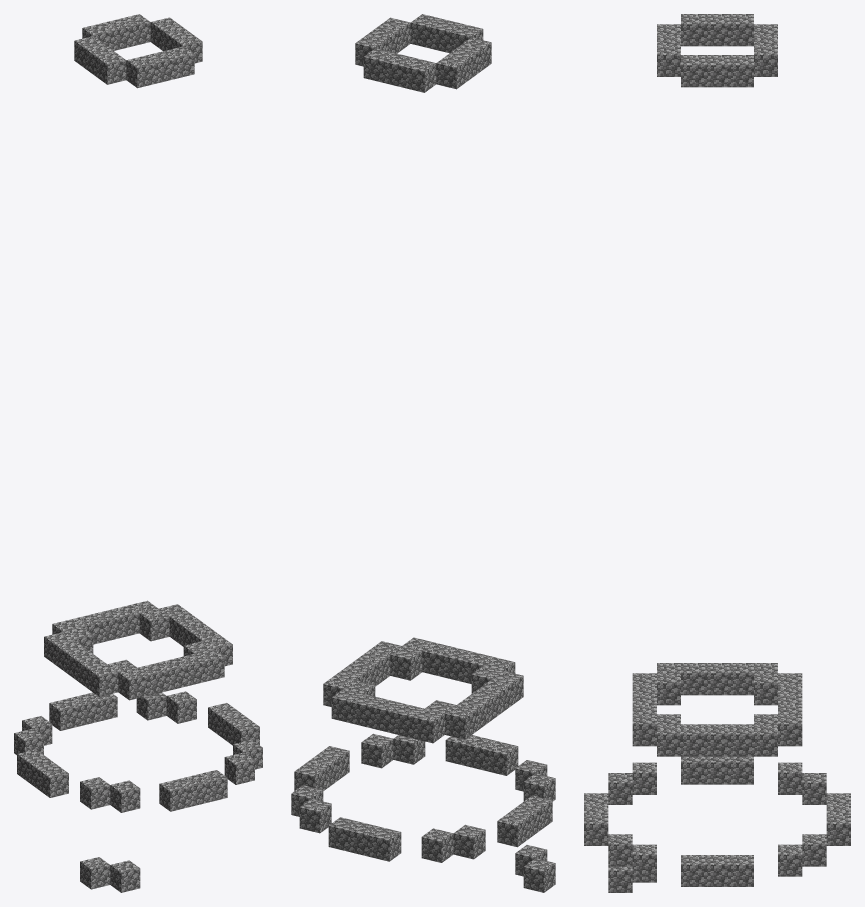
Rendered from lighthouse_cobblestone.obj.
3 views of the same model, side by side, from view 1: azimuth 30°, elevation 25°; view 2: azimuth 150°, elevation 25°; view 3: azimuth 270°, elevation 25° (orthographic). The views are drawn at different scales.
Bounding box in the file's own units: 11 × 40 × 11.
